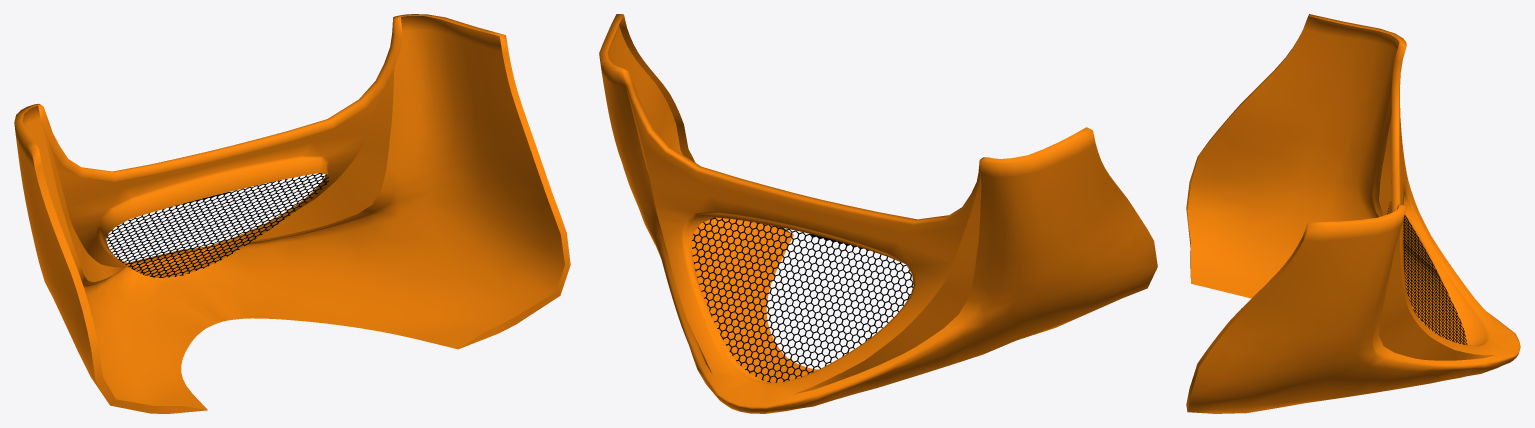
Rendered from Chin_MEANY_MESH_COLORMATCH_OCT_BLK.glb.
The picture shows the model from 3 angles, left to right: view 1: azimuth 30°, elevation 25°; view 2: azimuth 150°, elevation 25°; view 3: azimuth 270°, elevation 25°; orthographic projection. The views are drawn at different scales.
Parts seen in each view (by area): view 1: Chin_MEANY_MESH_OCT_BLK, MESH_OCT_BLK; view 2: Chin_MEANY_MESH_OCT_BLK, MESH_OCT_BLK; view 3: Chin_MEANY_MESH_OCT_BLK, MESH_OCT_BLK.
Part boxes in pixels (x1=…): Chin_MEANY_MESH_OCT_BLK: x1=14, y1=14, x2=570, y2=413; MESH_OCT_BLK: x1=107, y1=173, x2=328, y2=277; Chin_MEANY_MESH_OCT_BLK: x1=599, y1=14, x2=1157, y2=413; MESH_OCT_BLK: x1=692, y1=217, x2=913, y2=382; Chin_MEANY_MESH_OCT_BLK: x1=1186, y1=14, x2=1520, y2=413; MESH_OCT_BLK: x1=1387, y1=203, x2=1467, y2=344.
Size of the model in its own units: 0.3384 by 0.1785 by 0.2248.
